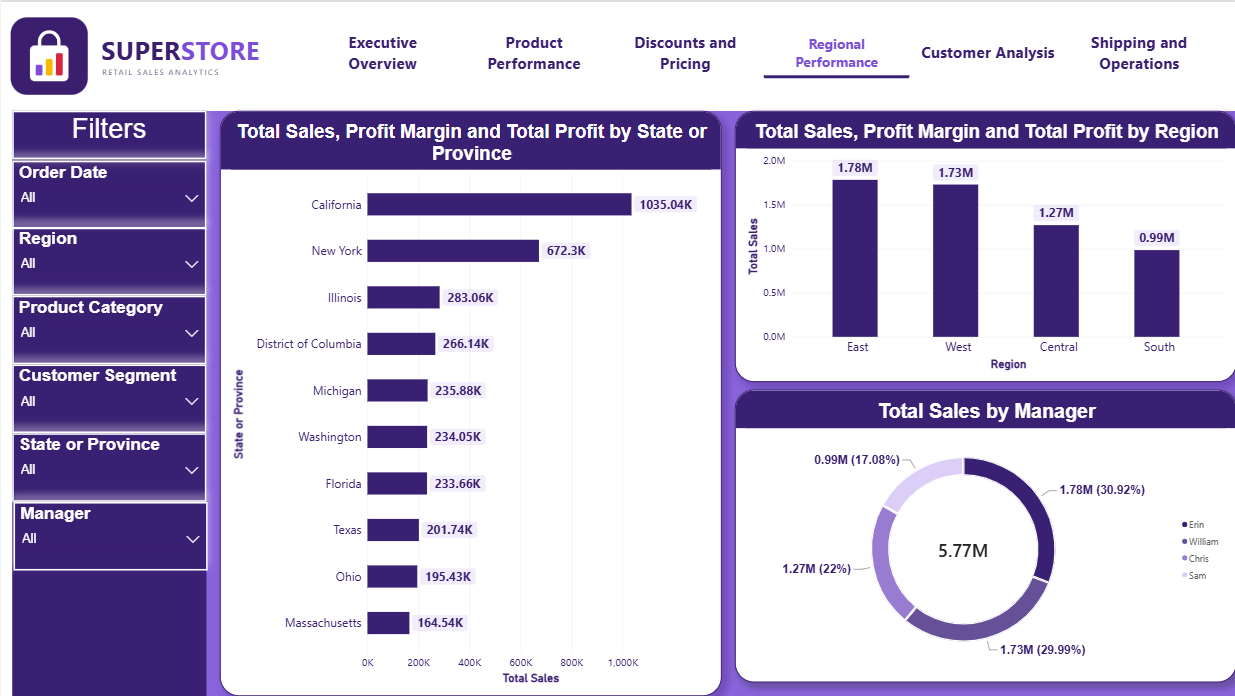

The dashboard page shown, as its layout file describes it:
{"tool":"powerbi","page":{"name":"Regional Performance","canvas":[1920,1080],"ordinal":4},"visuals":[{"type":"shape","box":[0,140.9,18.8,939.1],"z":0},{"type":"shape","title":"Super Store Analysis Dashboard","box":[0,0,1919.6,169.3],"z":1000},{"type":"image","box":[0,0,479.5,168.1],"z":2000},{"type":"pageNavigator","box":[480.4,38.7,1404.3,81],"z":3000},{"type":"shape","box":[18.4,169,301.8,911],"z":4000},{"type":"textbox","box":[18.4,169.3,301.8,75.5],"z":5000},{"type":"slicer","fields":{"Values":["Final Sales Data.Order Date"]},"box":[18.4,246.6,301.8,106.7],"z":6000},{"type":"slicer","fields":{"Values":["Customers Data.Region"]},"box":[18.4,349.7,301.8,106.7],"z":7000},{"type":"slicer","fields":{"Values":["Products Data.Product Category"]},"box":[18.4,456.4,301.8,106.7],"z":8000},{"type":"slicer","fields":{"Values":["Customers Data.Customer Segment"]},"box":[18.4,563.2,301.8,106.7],"z":9000},{"type":"slicer","fields":{"Values":["Customers Data.State or Province"]},"box":[18.4,669.9,301.8,106.7],"z":10000},{"type":"slicer","fields":{"Values":["Mangers Data.Manager"]},"box":[19.1,777.6,301.8,106.7],"z":11000},{"type":"clusteredColumnChart","fields":{"Category":["Customers Data.Region"],"Y":["Measures Table.Total Sales"]},"box":[1140.2,169.4,779.8,421.4],"z":12000},{"type":"clusteredBarChart","fields":{"Category":["Customers Data.State or Province"],"Y":["Measures Table.Total Sales"]},"box":[340.7,169.4,779.8,909.8],"z":13000},{"type":"donutChart","title":"Total Sales by Manager","fields":{"Category":["Mangers Data.Manager"],"Y":["Measures Table.Total Sales"]},"box":[1140.2,602.6,779.8,454.9],"z":14000}]}

Visuals, with their boxes in screenshot pixels (x1, y1, x2, y2), scaled from the page's 1920x1080 canvas onto the 1235x696 screenshot:
shape: [0,91,12,695]
"Super Store Analysis Dashboard" shape: [0,0,1234,109]
image: [0,0,308,108]
pageNavigator: [309,25,1212,77]
shape: [12,109,206,695]
textbox: [12,109,206,158]
slicer - Final Sales Data.Order Date: [12,159,206,228]
slicer - Customers Data.Region: [12,225,206,294]
slicer - Products Data.Product Category: [12,294,206,363]
slicer - Customers Data.Customer Segment: [12,363,206,432]
slicer - Customers Data.State or Province: [12,432,206,500]
slicer - Mangers Data.Manager: [12,501,206,570]
clusteredColumnChart - Customers Data.Region x Measures Table.Total Sales: [733,109,1234,381]
clusteredBarChart - Customers Data.State or Province x Measures Table.Total Sales: [219,109,721,695]
"Total Sales by Manager" donutChart: [733,388,1234,682]
